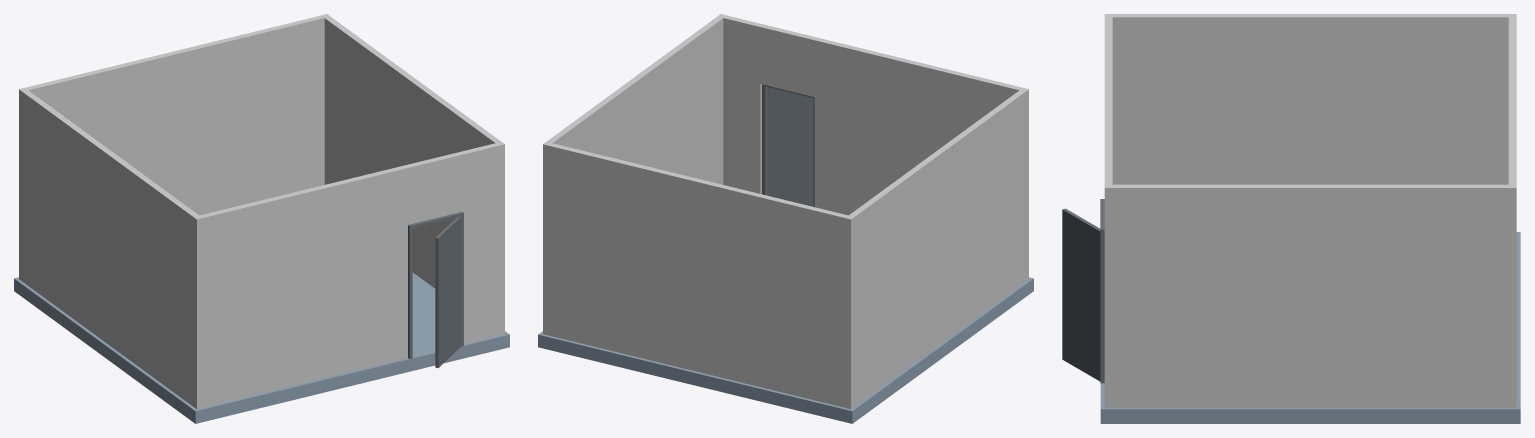
The model's file is room4.gltf.
3 renders of one model, left to right at view 1: azimuth 30°, elevation 25°; view 2: azimuth 150°, elevation 25°; view 3: azimuth 270°, elevation 25°, orthographic. The views are drawn at different scales.
Parts seen in each view (by area): view 1: 壁, Slab, Door; view 2: 壁, Slab, Door; view 3: 壁, Slab, Door.
Part boxes in pixels (box(x1,y1,x2,y2)): 壁: box(19, 14, 504, 409); Slab: box(14, 272, 509, 423); Door: box(408, 212, 463, 368); 壁: box(543, 14, 1028, 409); Slab: box(538, 277, 1033, 423); Door: box(762, 84, 814, 206); 壁: box(1104, 14, 1516, 407); Slab: box(1100, 232, 1520, 423); Door: box(1062, 199, 1104, 383).
Bounding box in the file's own units: 5.2 × 3.2 × 5.67.
